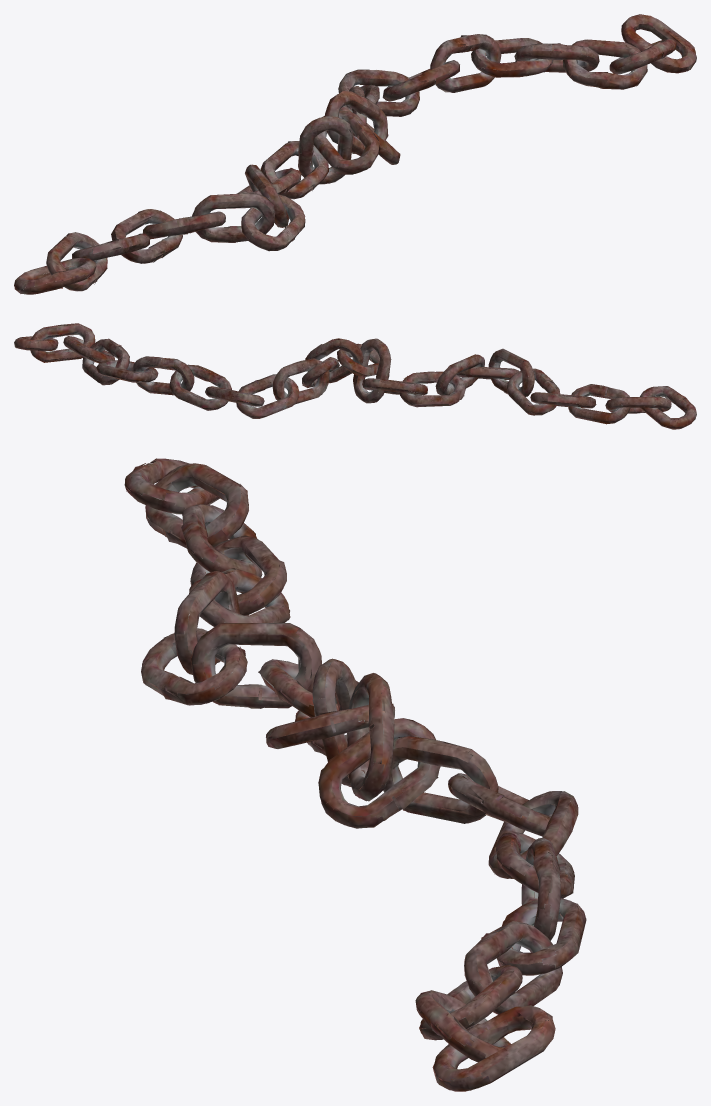
File: x_tortura_rusty_chains.glb
The picture shows the model from 3 angles, top to bottom: view 1: azimuth 30°, elevation 25°; view 2: azimuth 150°, elevation 25°; view 3: azimuth 270°, elevation 25°; orthographic projection. The views are drawn at different scales.
Visible parts, largest first — view 1: defaultMaterial; view 2: defaultMaterial; view 3: defaultMaterial.
Boxes of the visible parts, left/top/right/bottom form: defaultMaterial: left=14, top=14, right=696, bottom=294; defaultMaterial: left=14, top=323, right=696, bottom=429; defaultMaterial: left=124, top=458, right=586, bottom=1091.
Bounding box in the file's own units: 1.5 × 0.1563 × 0.4991.
Materials: 1 (1 with a texture image).
